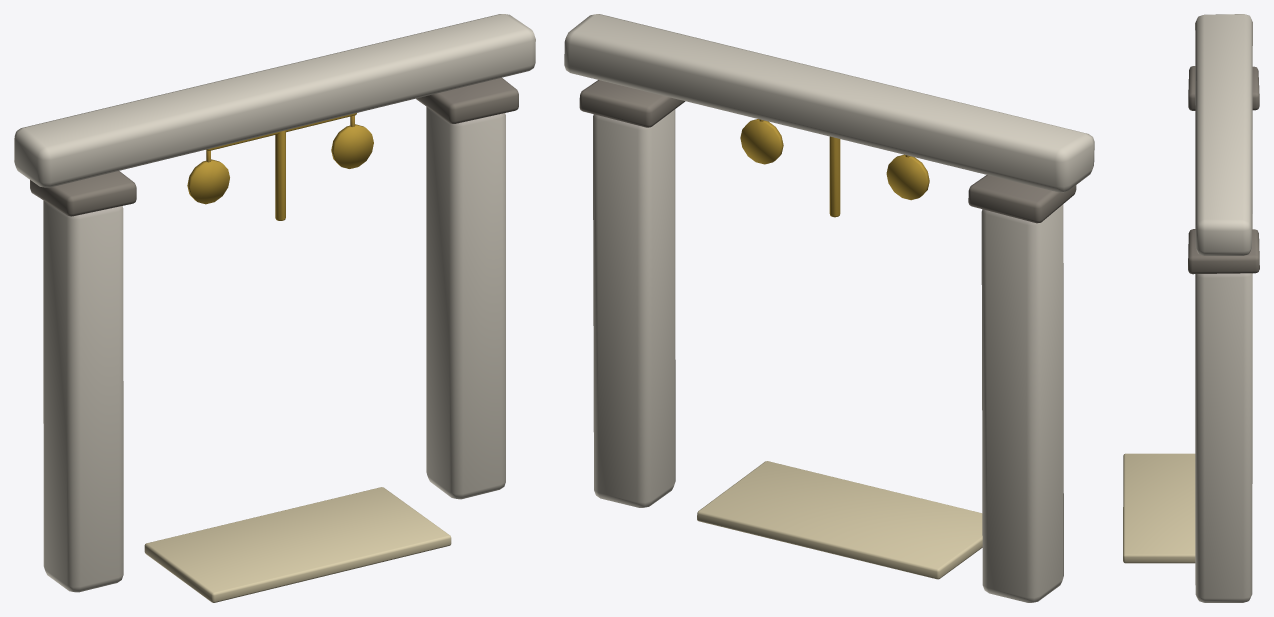
3 renders of one model, left to right at view 1: azimuth 30°, elevation 25°; view 2: azimuth 150°, elevation 25°; view 3: azimuth 270°, elevation 25°, orthographic. The views are drawn at different scales.
Visible parts, largest first — view 1: gate_fa8e4ed7; view 2: gate_fa8e4ed7; view 3: gate_fa8e4ed7.
Boxes of the visible parts, bbox=[...] form: gate_fa8e4ed7: bbox=[14, 14, 535, 602]; gate_fa8e4ed7: bbox=[564, 14, 1094, 602]; gate_fa8e4ed7: bbox=[1123, 14, 1259, 602].
Size of the model in its own units: 4.98 by 4.35 by 1.36.
